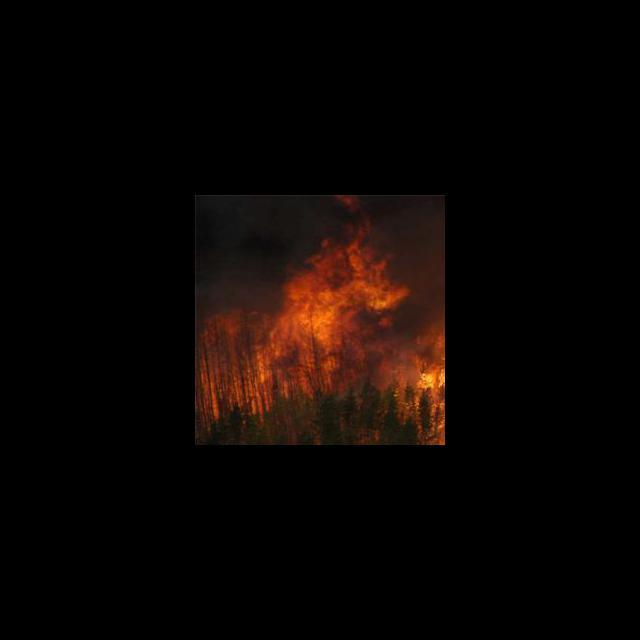Fire: (197, 212, 444, 444)
